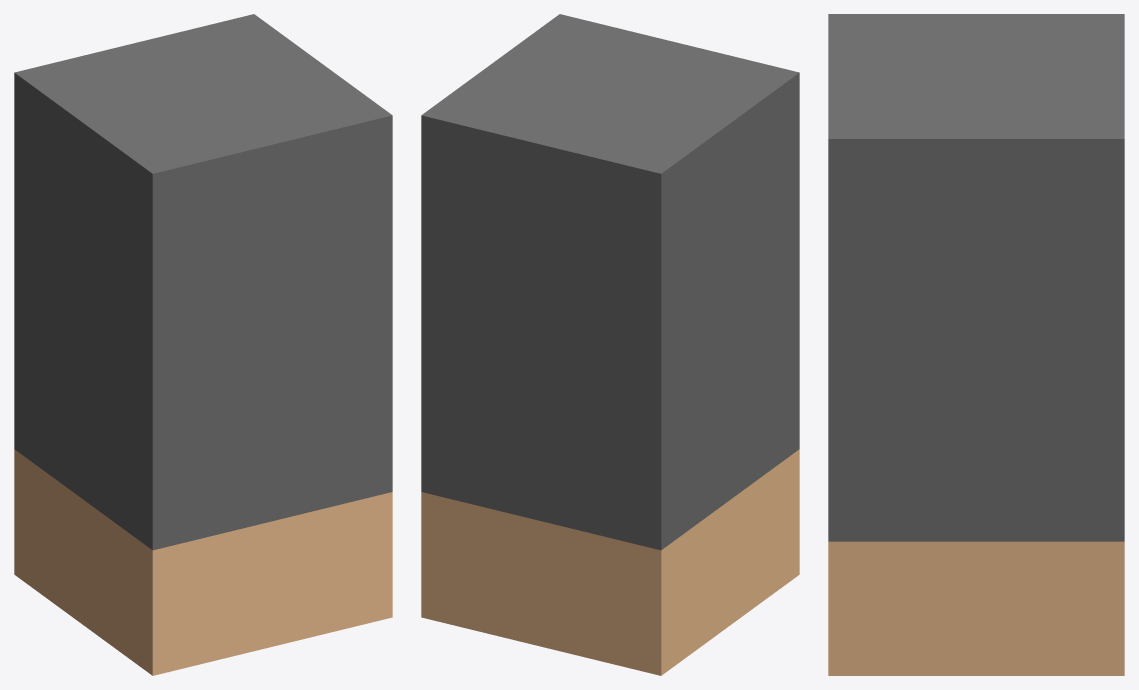
Rendered from leg2.obj.
The picture shows the model from 3 angles, left to right: view 1: azimuth 30°, elevation 25°; view 2: azimuth 150°, elevation 25°; view 3: azimuth 270°, elevation 25°; orthographic projection. The views are drawn at different scales.
Size of the model in its own units: 0.2 by 0.4 by 0.2.
Materials: 1 (1 with a texture image).
